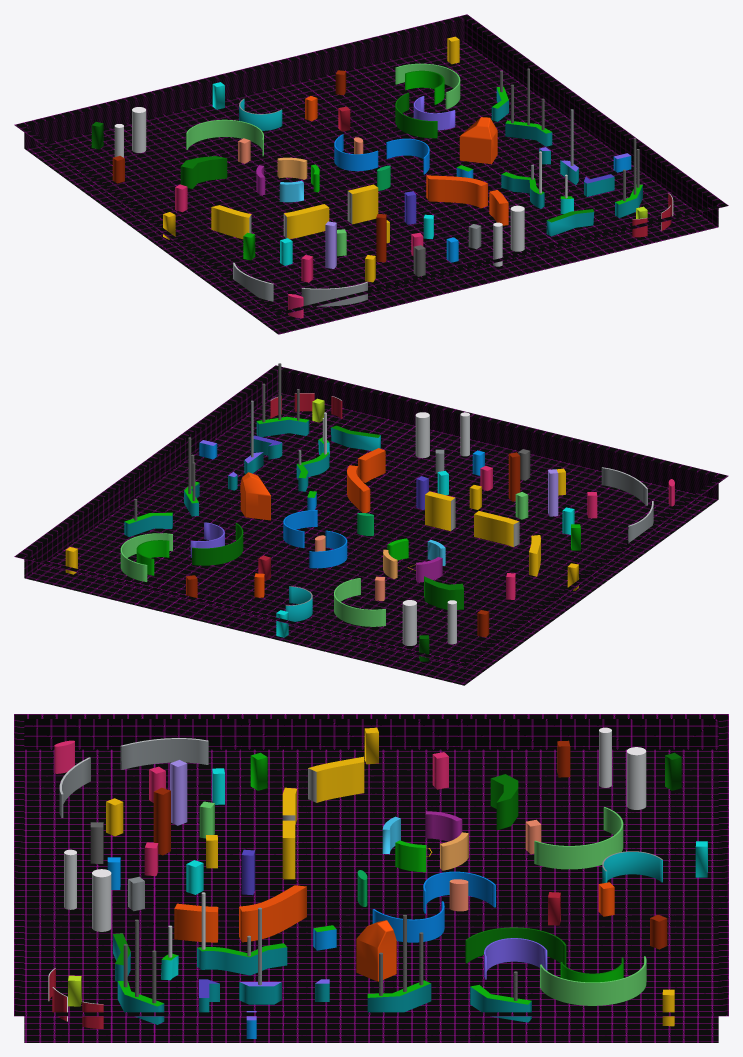
The model's file is partycity.glb.
3 views of the same model, one above another, from view 1: azimuth 30°, elevation 25°; view 2: azimuth 150°, elevation 25°; view 3: azimuth 270°, elevation 25° (orthographic). The views are drawn at different scales.
Parts seen in each view (by area): view 1: floor, city, edge, Top, poles.001, city.004, city.001; view 2: floor, city, edge, Top, poles.001, city.004, city.001; view 3: floor, city, edge, Top, poles.001, city.004, city.001.
Boxes of the visible parts, x1=… form: floor: x1=25, y1=41, x2=717, y2=334; city: x1=91, y1=38, x2=673, y2=318; edge: x1=14, y1=14, x2=728, y2=316; Top: x1=92, y1=36, x2=672, y2=298; poles.001: x1=114, y1=110, x2=524, y2=266; city.004: x1=233, y1=263, x2=367, y2=306; city.001: x1=459, y1=117, x2=497, y2=164; floor: x1=25, y1=393, x2=717, y2=685; city: x1=65, y1=393, x2=674, y2=661; edge: x1=14, y1=365, x2=728, y2=667; Top: x1=66, y1=363, x2=674, y2=638; poles.001: x1=402, y1=414, x2=469, y2=645; city.004: x1=601, y1=468, x2=653, y2=543; city.001: x1=240, y1=472, x2=270, y2=520; floor: x1=24, y1=749, x2=718, y2=1042; city: x1=48, y1=729, x2=707, y2=1038; edge: x1=14, y1=714, x2=728, y2=1016; Top: x1=48, y1=727, x2=707, y2=1020; poles.001: x1=64, y1=731, x2=646, y2=931; city.004: x1=59, y1=739, x2=208, y2=817; city.001: x1=356, y1=920, x2=396, y2=981.
Bounding box in the file's own units: 2060 × 304 × 2060.
4 materials, 4 textured.
